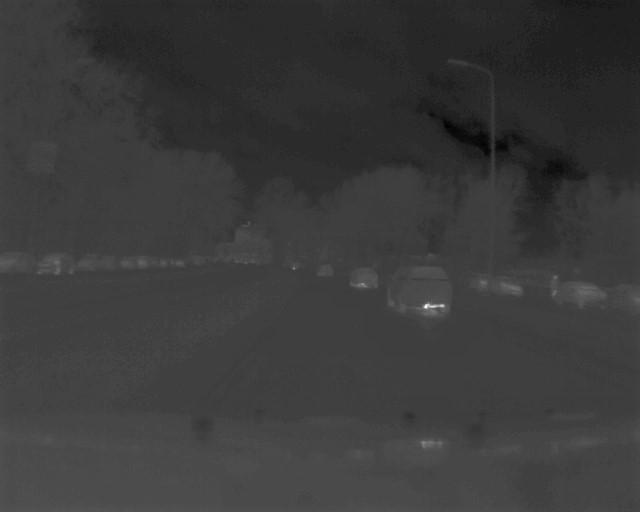car: (383, 263, 453, 318), (564, 275, 608, 317), (343, 265, 381, 291), (37, 251, 76, 276), (78, 253, 116, 274), (491, 271, 522, 296)
person: (547, 271, 561, 297)
